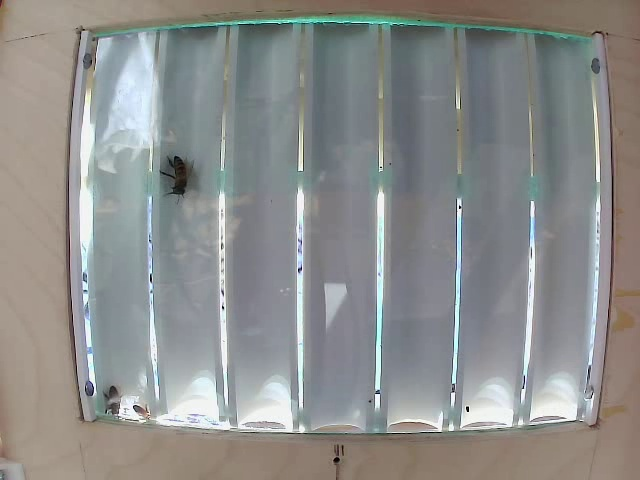bee: (150, 138, 199, 207)
